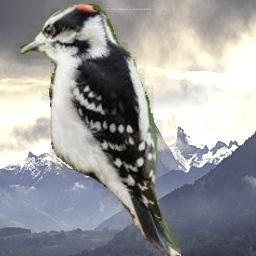Woodpecker: (8, 1, 181, 256)
